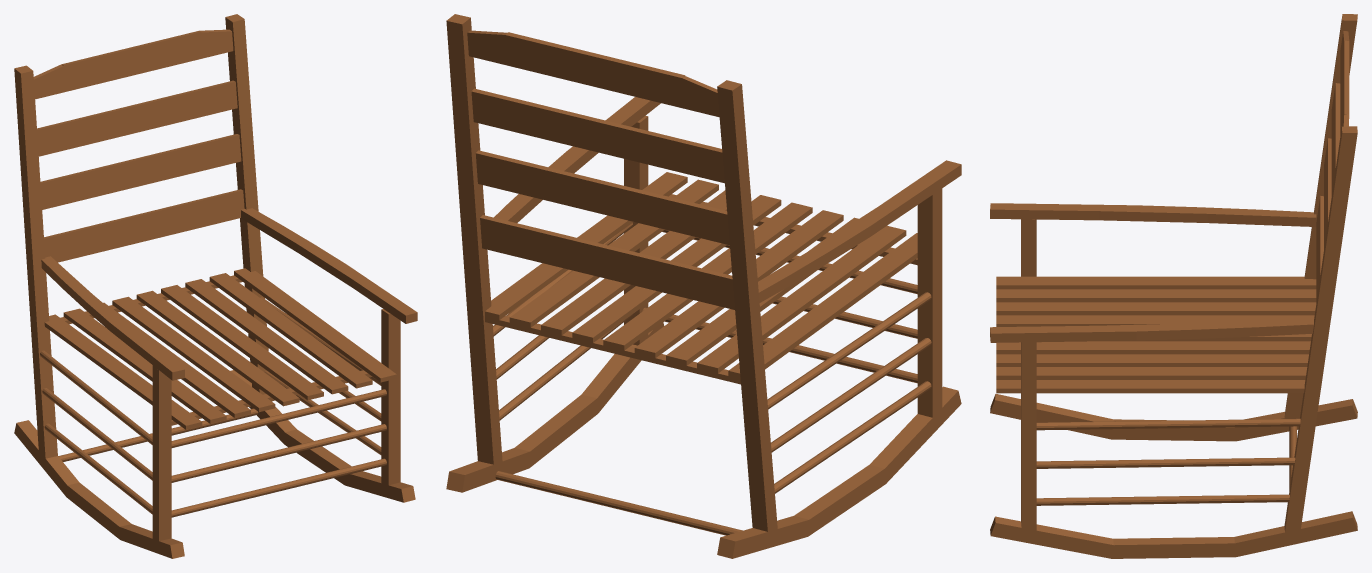
File: chair-by-cmht-oculus-bNOGKxagmvd.glb
The picture shows the model from 3 angles, left to right: view 1: azimuth 30°, elevation 25°; view 2: azimuth 150°, elevation 25°; view 3: azimuth 270°, elevation 25°; orthographic projection. The views are drawn at different scales.
Parts seen in each view (by area): view 1: Node; view 2: Node; view 3: Node.
Boxes of the visible parts, <box> form: Node: <box>14,14,417,558</box>; Node: <box>446,14,961,558</box>; Node: <box>990,14,1357,558</box>.
Size of the model in its own units: 30.25 by 45.67 by 36.03.
